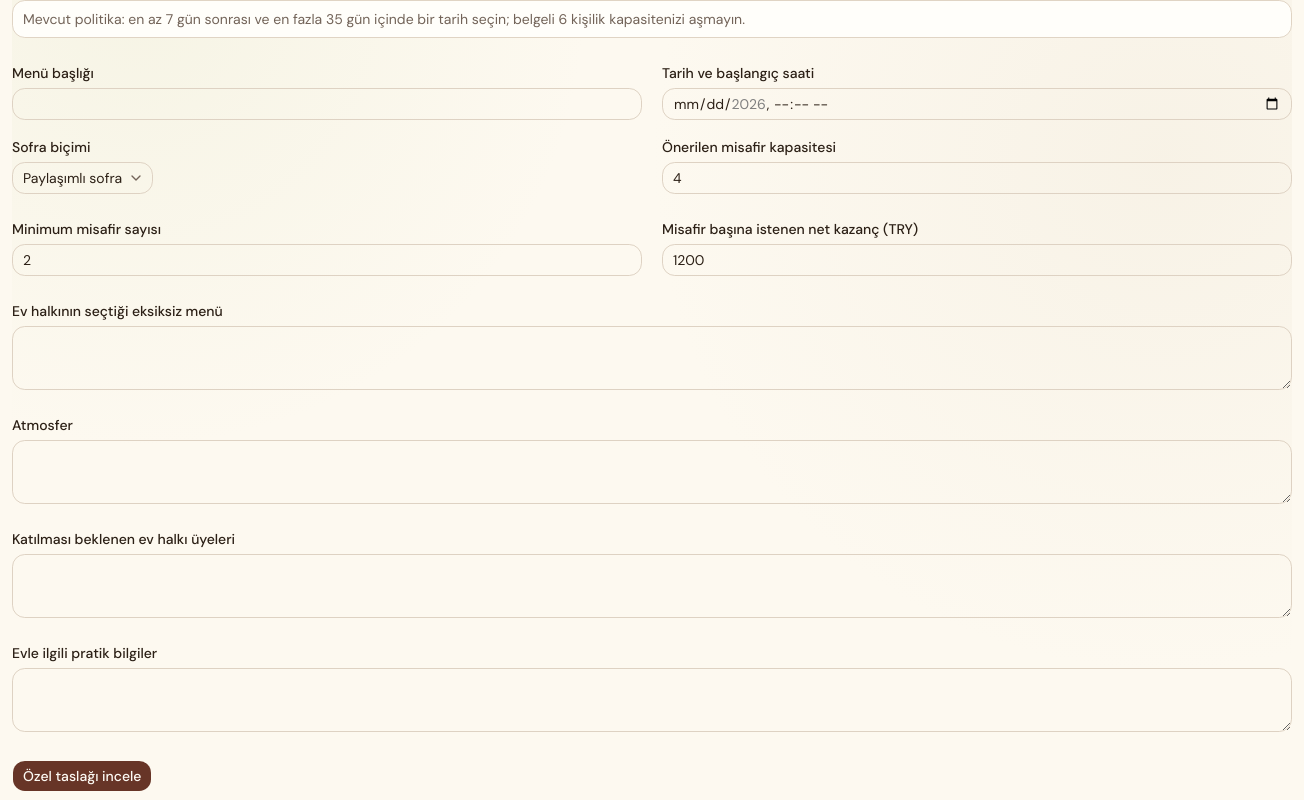
host table-creation validation › announces localized errors and links them to invalid fields
Click the button "Özel taslağı incele": [82, 776] box 12,760 -> 152,792
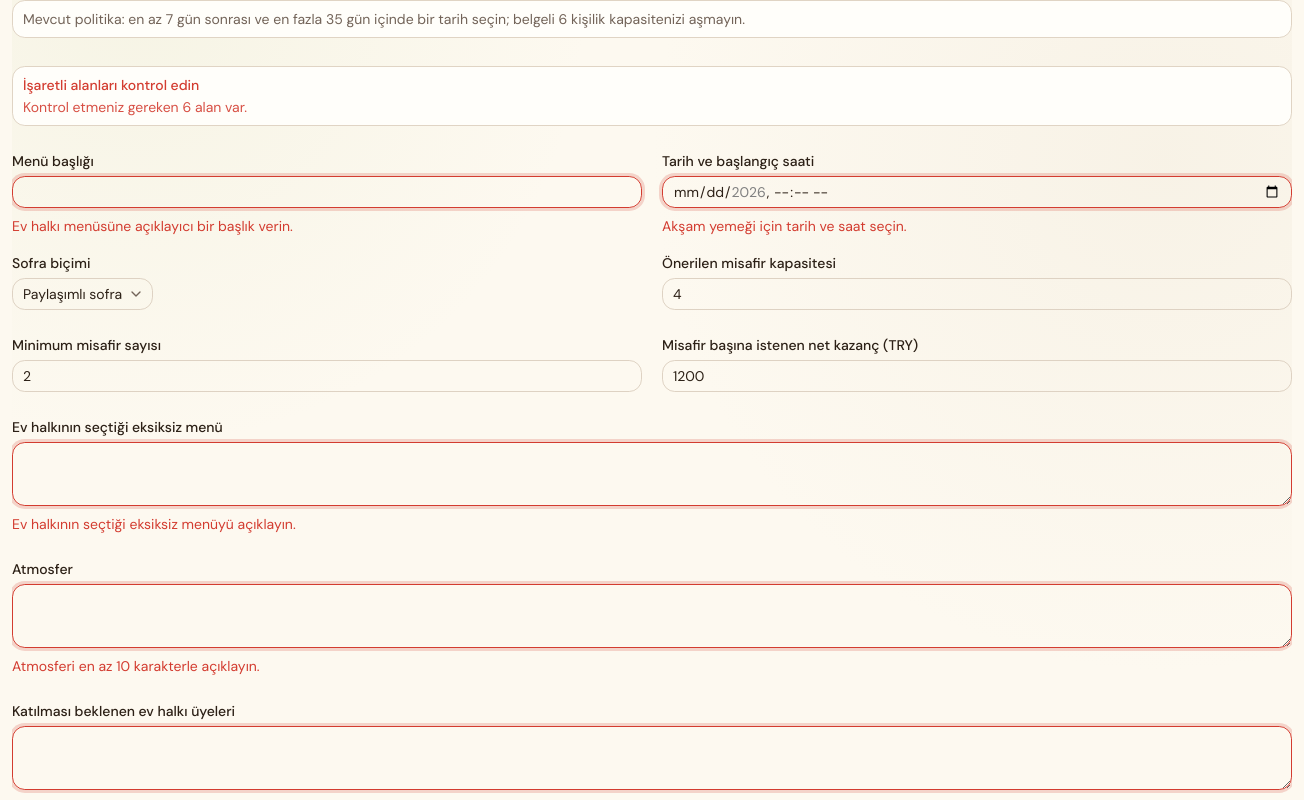
Check: the text "İşaretli alanları kontrol edin" is shown, box 23,76 -> 199,94
Check: the message "Ev halkı menüsüne açıklayıcı bir başlık verin." is shown, box 12,217 -> 293,235
